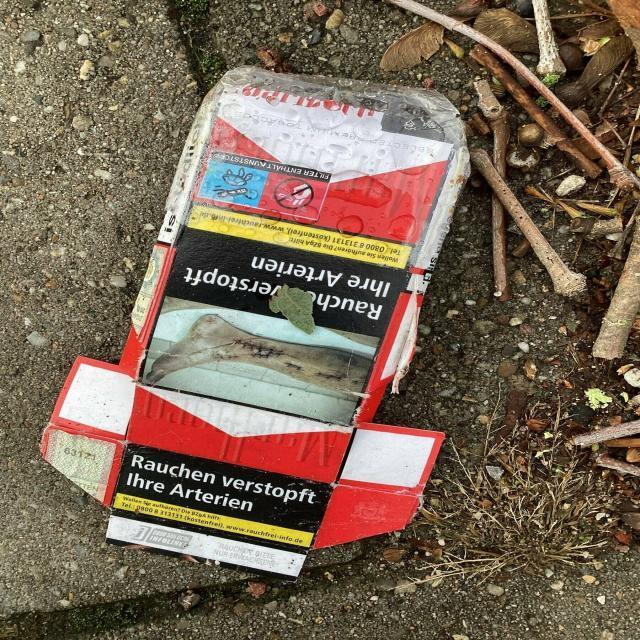Paper: (33, 62, 476, 583)
